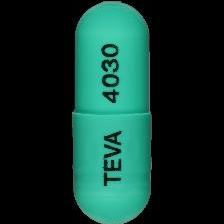49999-100: (0, 0, 224, 224)
